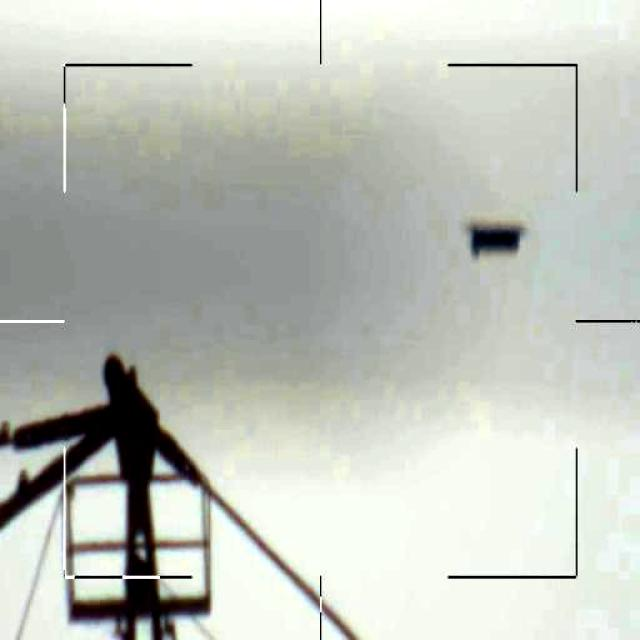bird: (462, 215, 526, 262)
